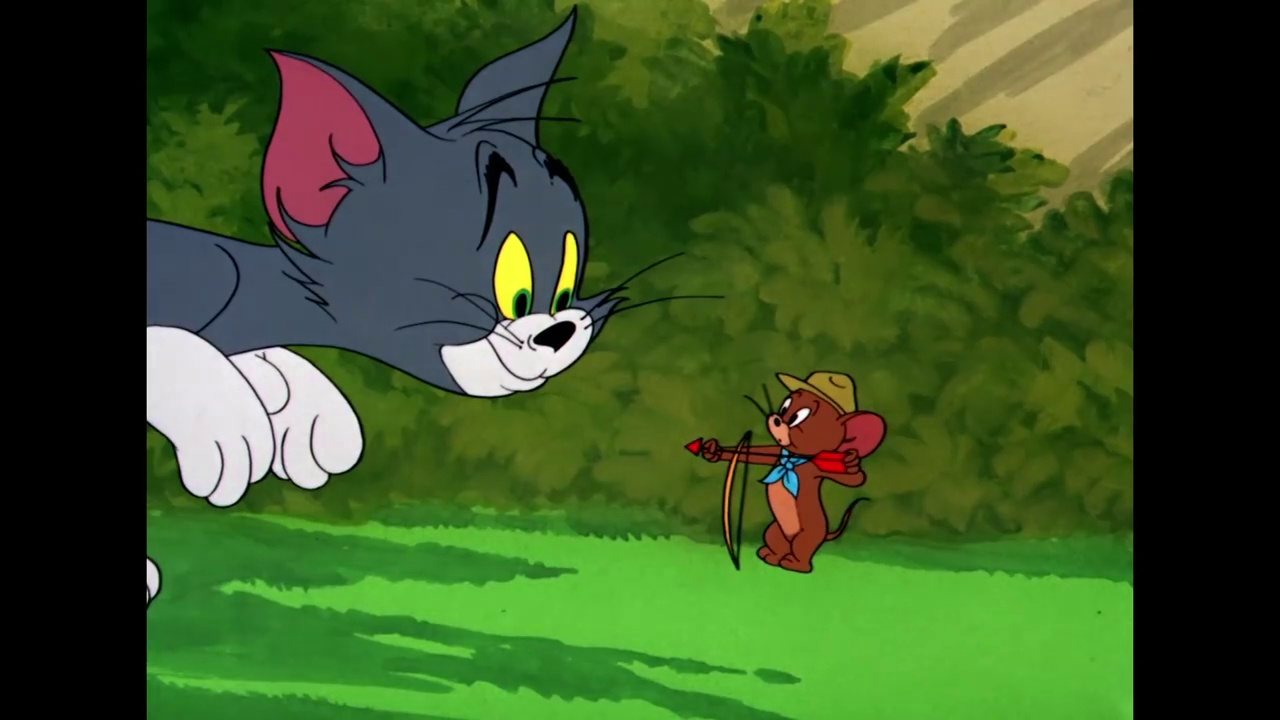tom: (250, 7, 632, 406)
